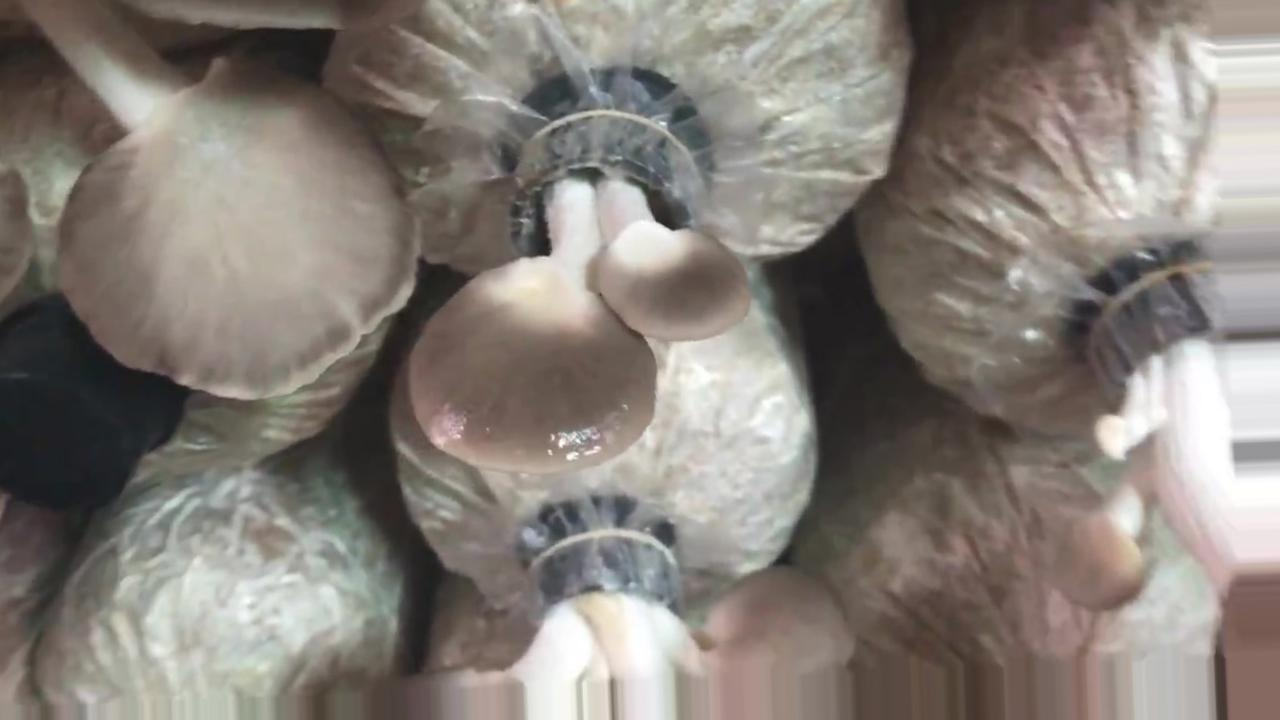nam: (1, 2, 427, 403), (403, 105, 755, 477), (1041, 264, 1279, 720), (363, 525, 863, 720)
